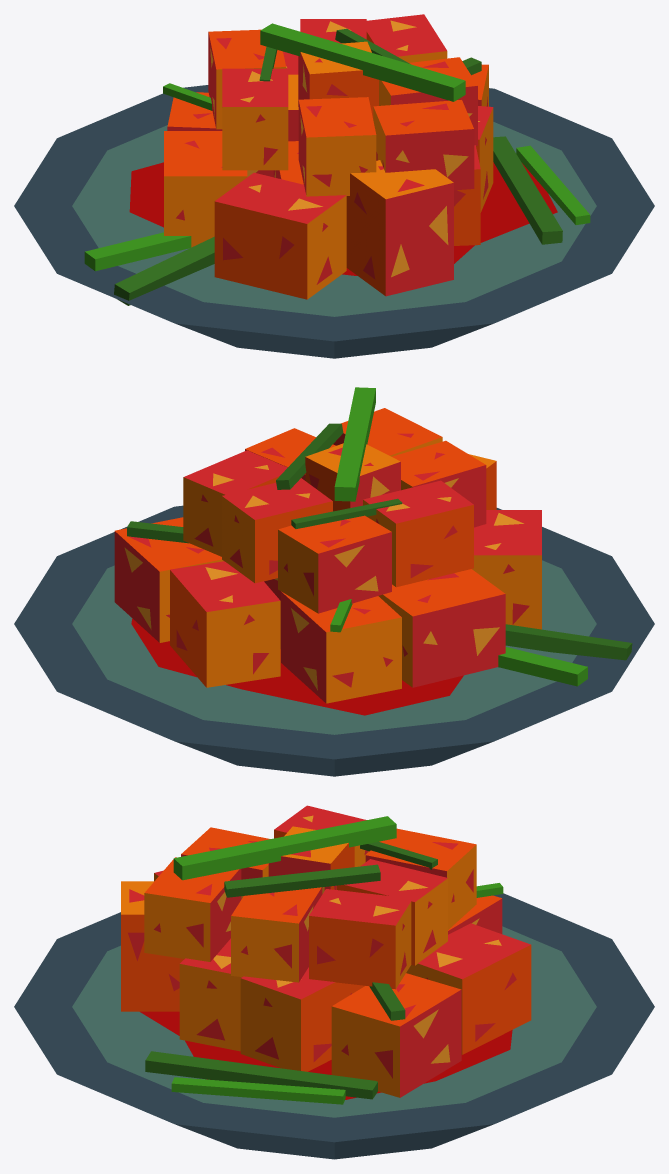
File: kimchi.FBX
The picture shows the model from 3 angles, top to bottom: view 1: azimuth 30°, elevation 25°; view 2: azimuth 150°, elevation 25°; view 3: azimuth 270°, elevation 25°; orthographic projection.
Parts seen in each view (by area): view 1: kimchi; view 2: kimchi; view 3: kimchi.
Part boxes in pixels (x1=…): kimchi: x1=14, y1=14, x2=654, y2=358; kimchi: x1=14, y1=387, x2=654, y2=776; kimchi: x1=14, y1=805, x2=654, y2=1159.
Size of the model in its own units: 6.53 by 2.68 by 6.53.
